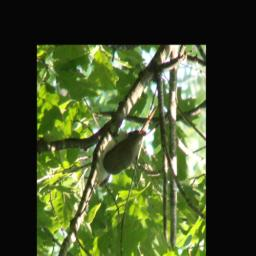Cuckoo: (92, 104, 159, 190)
